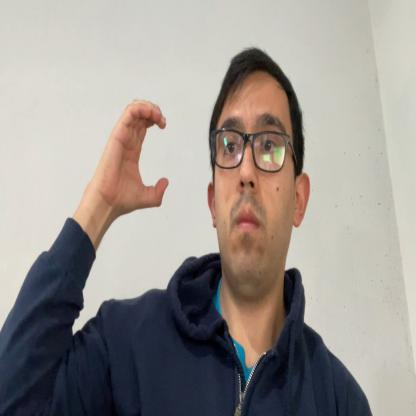C: (109, 100, 169, 214)
